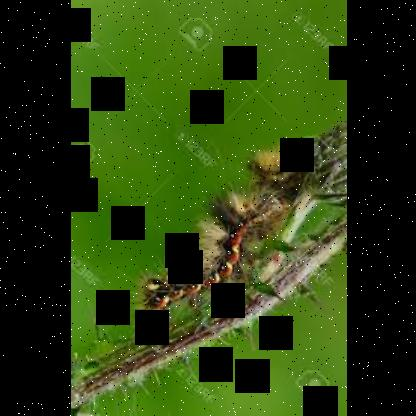oruga: (136, 194, 278, 330)
